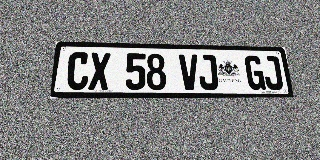5: (126, 53, 146, 90)
8: (146, 53, 166, 90)
C: (66, 52, 90, 90)
G: (244, 55, 266, 90)
J: (262, 56, 284, 90), (198, 55, 219, 90)
V: (179, 54, 199, 90)
X: (88, 52, 110, 90)
